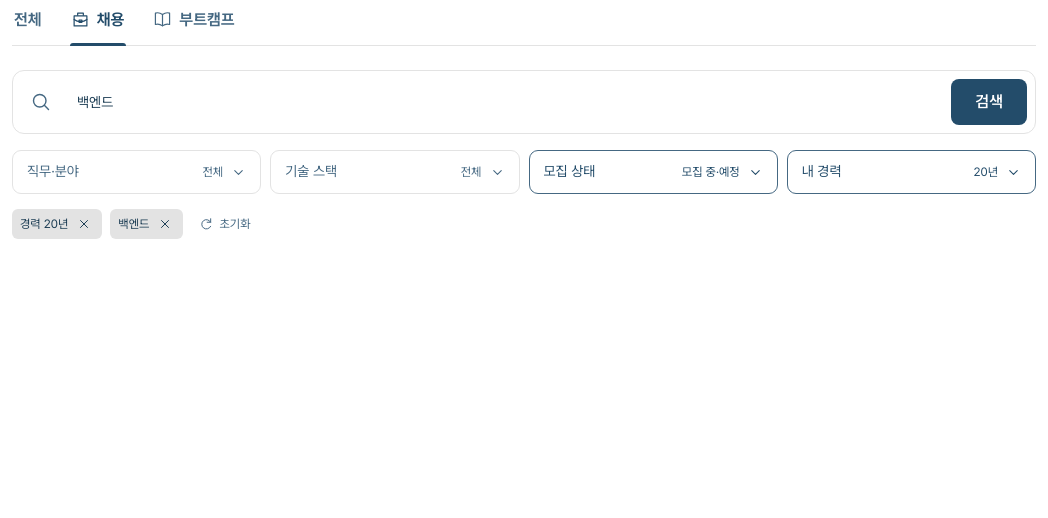
it: 경력 URL의 20년도 복원하고 직접 연차는 적용할 때만 URL과 요약을 바꾼다
The image size is (1048, 518).
Click the button "내 경력 20년". click: coordinates (911, 172)
box: [787,150,1036,194]
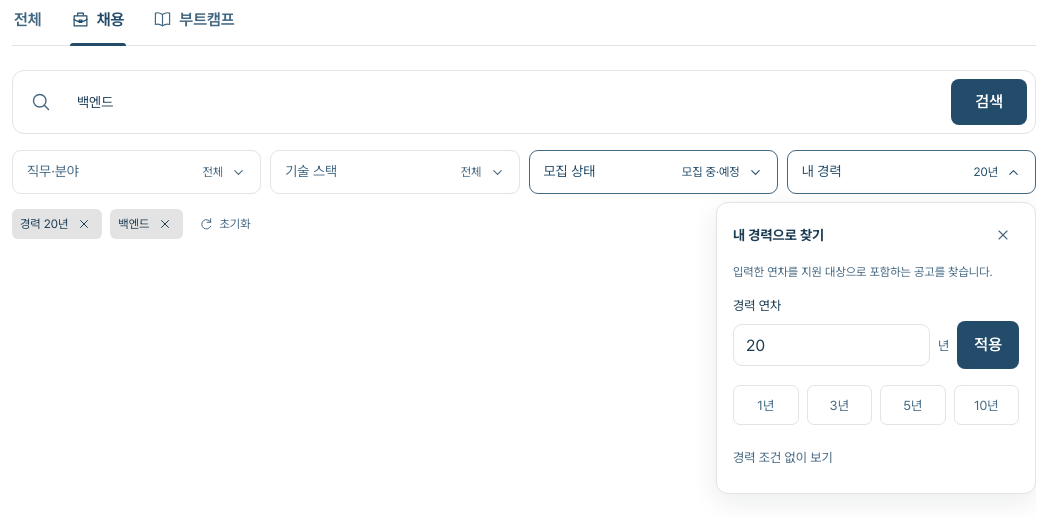
Result: the field named "경력 연차" holds "20"
Replace the text in the field named "경력 연차" with "7". click: coordinates (832, 345)
box: [733,324,930,366]
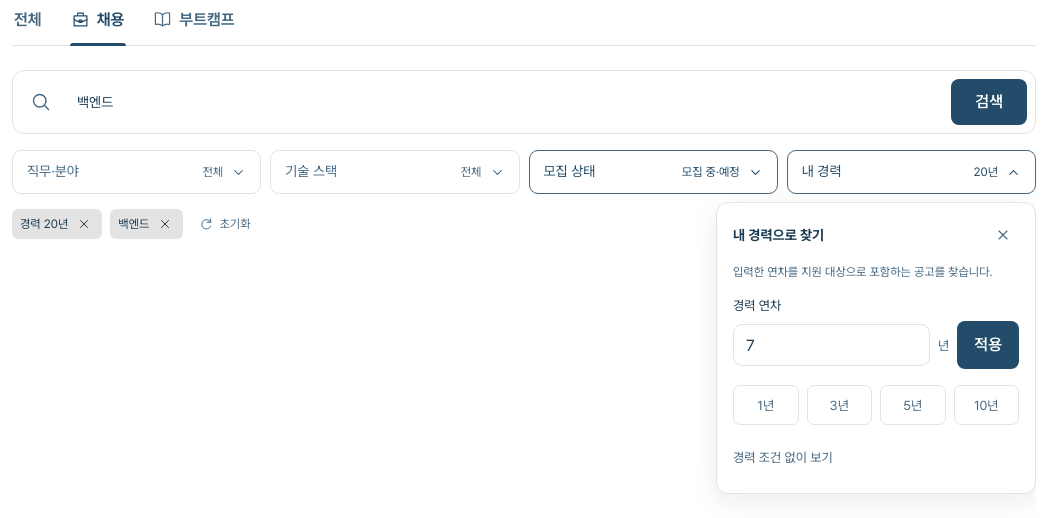
Expected: the element with class "active-filters" shows "경력 20년", [20,217,68,231]
Submit the form with class "career-form", box [733,298,1019,369]
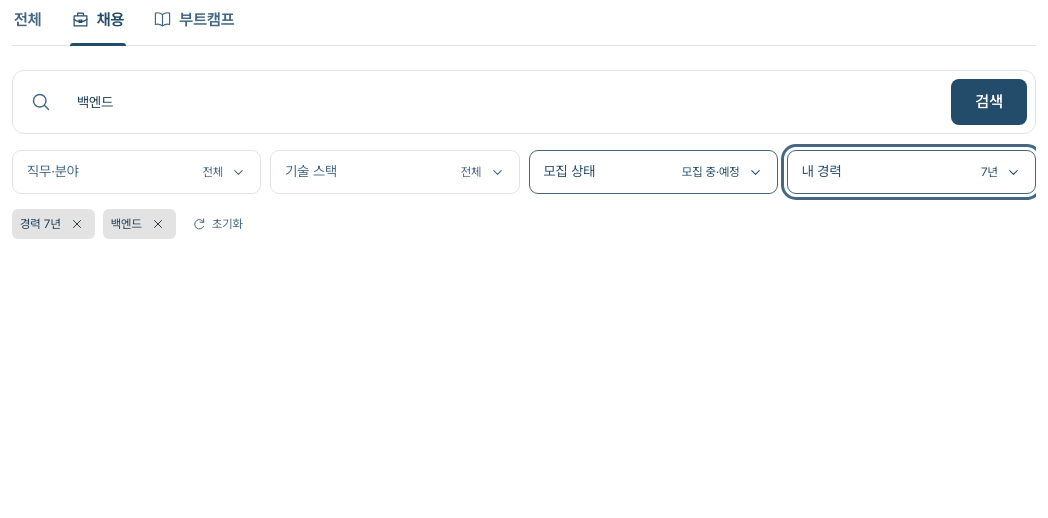
Result: the element with class "active-filters" shows "경력 7년" at [20,217,61,231]
